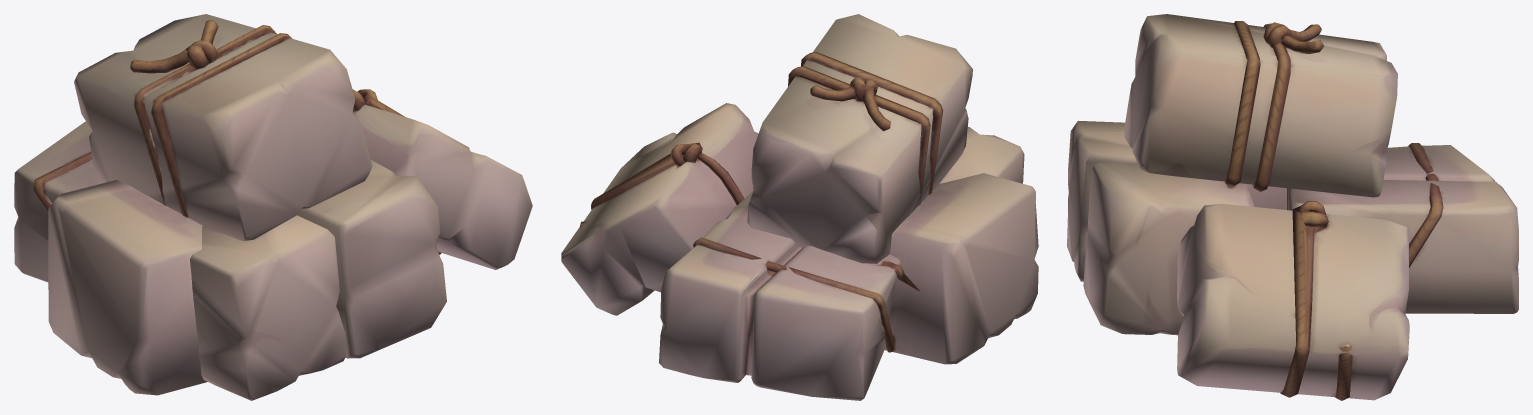
File: map_stoneblocks_tripo.glb
The picture shows the model from 3 angles, left to right: view 1: azimuth 30°, elevation 25°; view 2: azimuth 150°, elevation 25°; view 3: azimuth 270°, elevation 25°; orthographic projection. The views are drawn at different scales.
Visible parts, largest first — view 1: tripo_node_f81edc02-e64d-467c-bbe9-89c216a36550; view 2: tripo_node_f81edc02-e64d-467c-bbe9-89c216a36550; view 3: tripo_node_f81edc02-e64d-467c-bbe9-89c216a36550.
Boxes of the visible parts, box(x1,y1,x2,y2) form: tripo_node_f81edc02-e64d-467c-bbe9-89c216a36550: box(14, 14, 532, 400); tripo_node_f81edc02-e64d-467c-bbe9-89c216a36550: box(561, 14, 1038, 400); tripo_node_f81edc02-e64d-467c-bbe9-89c216a36550: box(1067, 14, 1518, 400).
Size of the model in its own units: 0.998 by 0.6621 by 0.9707.
Materials: 1 (1 with a texture image).
